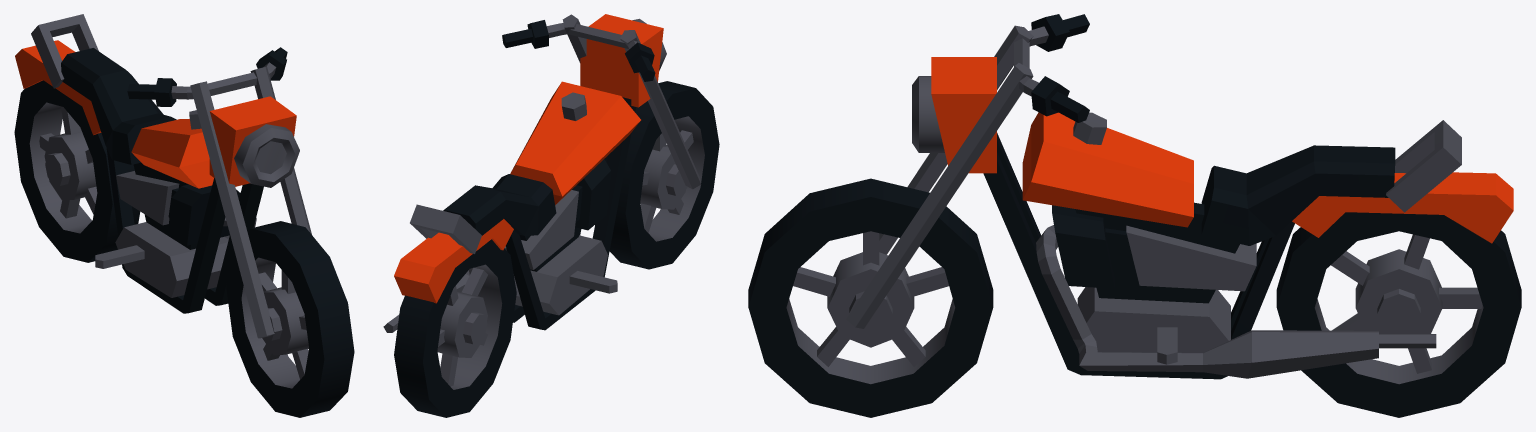
The model's file is Bike.fbx.
The picture shows the model from 3 angles, left to right: view 1: azimuth 30°, elevation 25°; view 2: azimuth 150°, elevation 25°; view 3: azimuth 270°, elevation 25°; orthographic projection. The views are drawn at different scales.
Parts seen in each view (by area): view 1: Bike; view 2: Bike; view 3: Bike.
Part boxes in pixels (left/top/right/bottom): Bike: left=14, top=14, right=354, bottom=417; Bike: left=383, top=14, right=719, bottom=417; Bike: left=748, top=14, right=1521, bottom=417.
Size of the model in its own units: 32.14 by 55.77 by 108.
